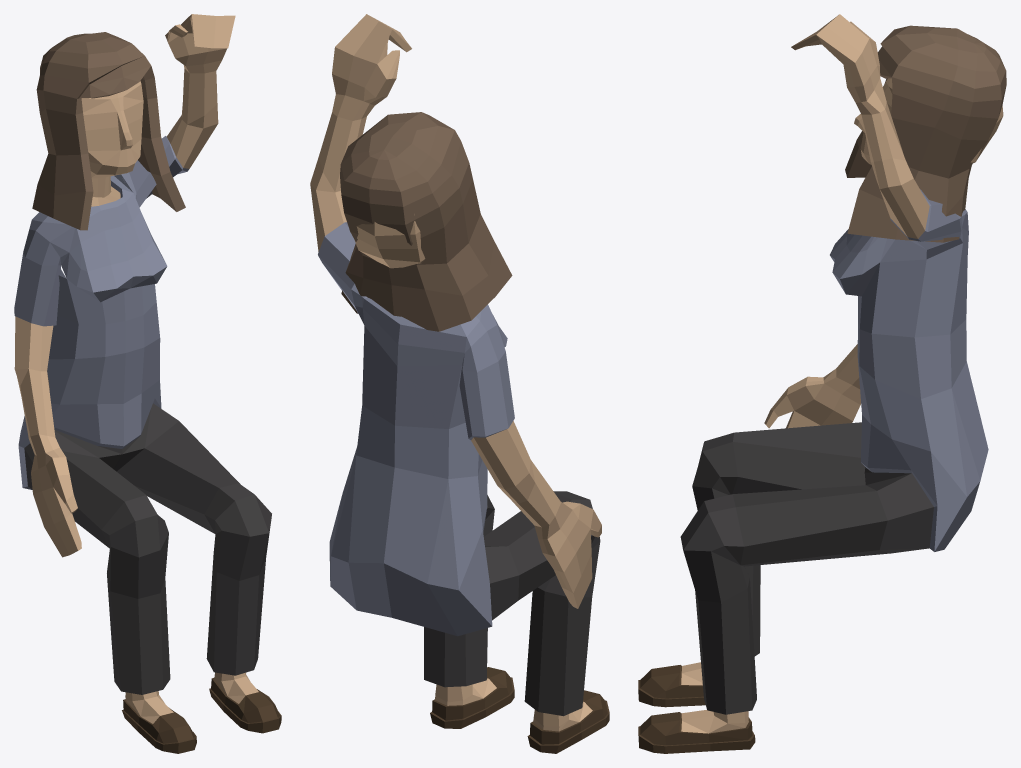
File: female_cheer_hair2.glb
The picture shows the model from 3 angles, left to right: view 1: azimuth 30°, elevation 25°; view 2: azimuth 150°, elevation 25°; view 3: azimuth 270°, elevation 25°; orthographic projection. The views are drawn at different scales.
Visible parts, largest first — view 1: hair; view 2: hair; view 3: hair.
Boxes of the visible parts, x1,y1,x2,y2 form: hair: (14,14,281,753); hair: (310,14,609,753); hair: (638,14,1006,753).
Bounding box in the file's own units: 0.4828 × 1.46 × 0.6647.
